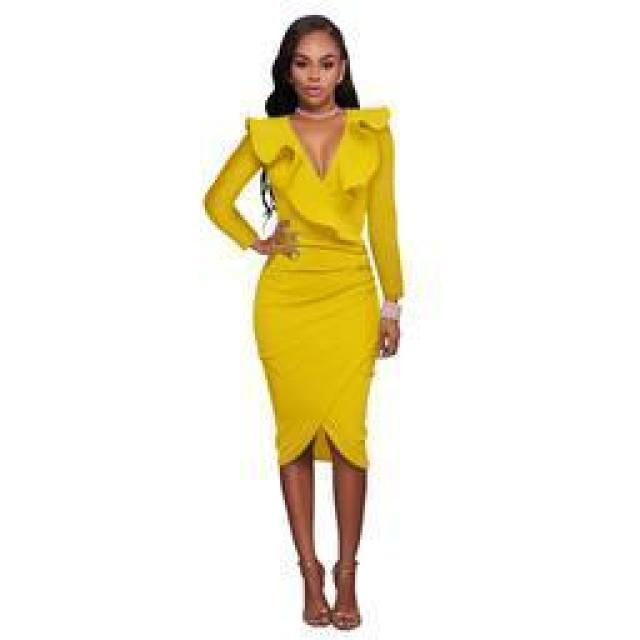dress: (204, 102, 404, 470)
